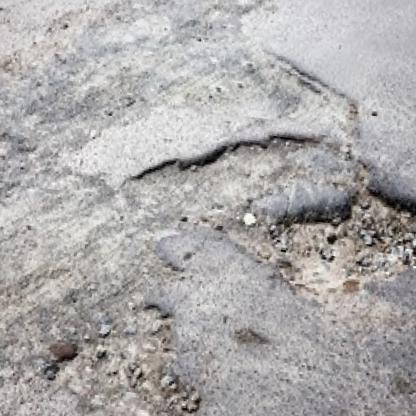pothole: (112, 111, 325, 253), (239, 172, 416, 323), (43, 293, 209, 416)
